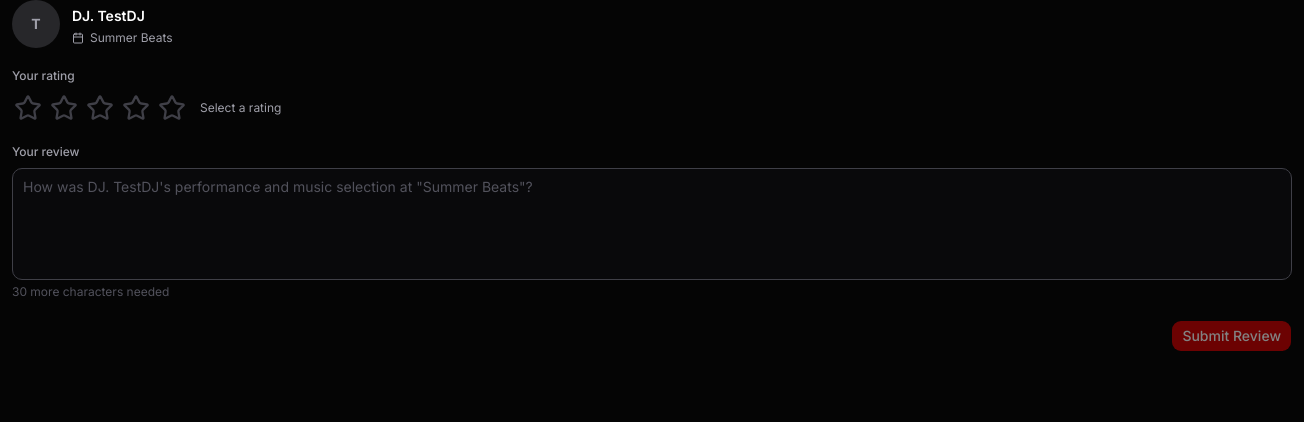
Test: DjRatingForm › shows error when createDjRating returns failure
Click the button named "Rate 5 stars" at [172, 108], box [156,92,188,124]
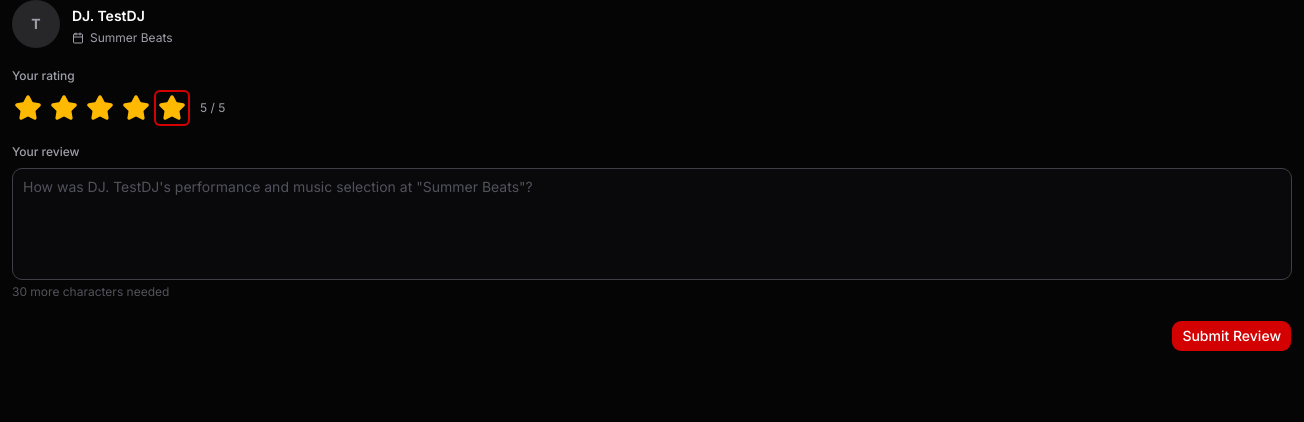
Type "Great performance at the event tonight!" into the text box with placeholder "performance" at [652, 224], box [12,168,1292,280]
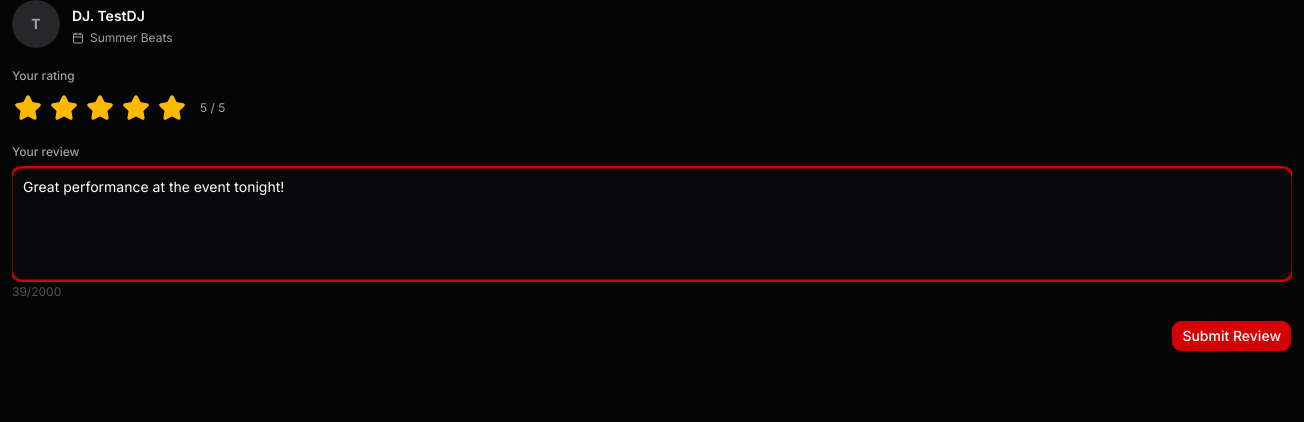
Click the button "Submit Review" at [1232, 336], box [1171,320,1292,352]
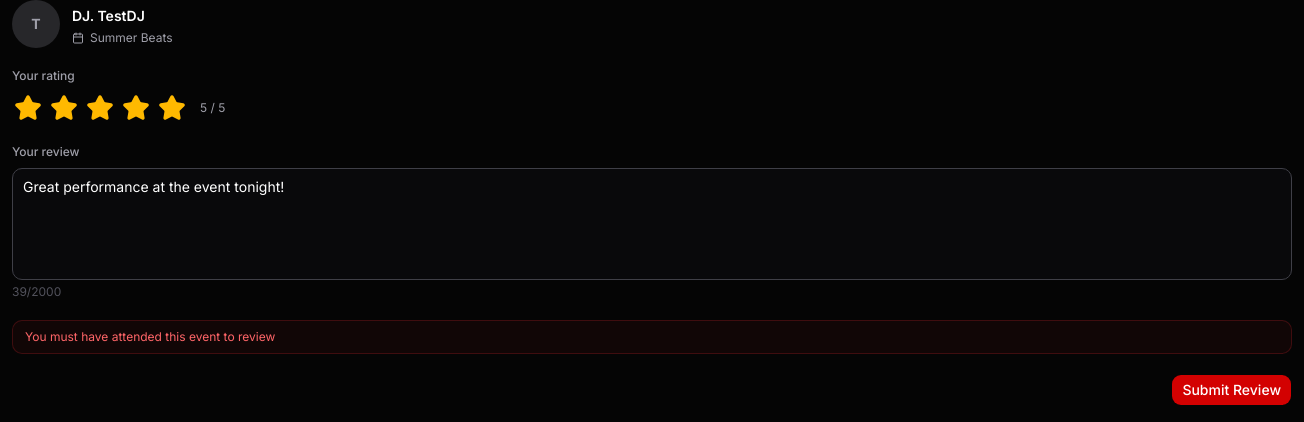
Expected: the text "You must have attended this event to review" is shown, [12,320,1292,354]
